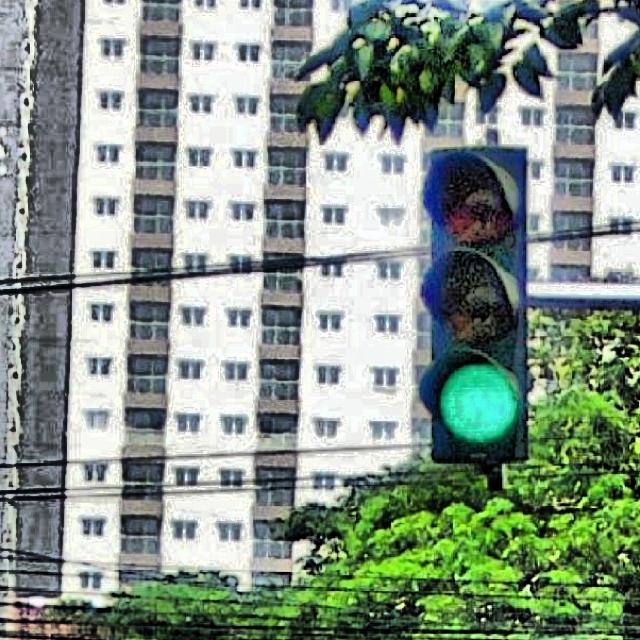green: (429, 144, 538, 479)
